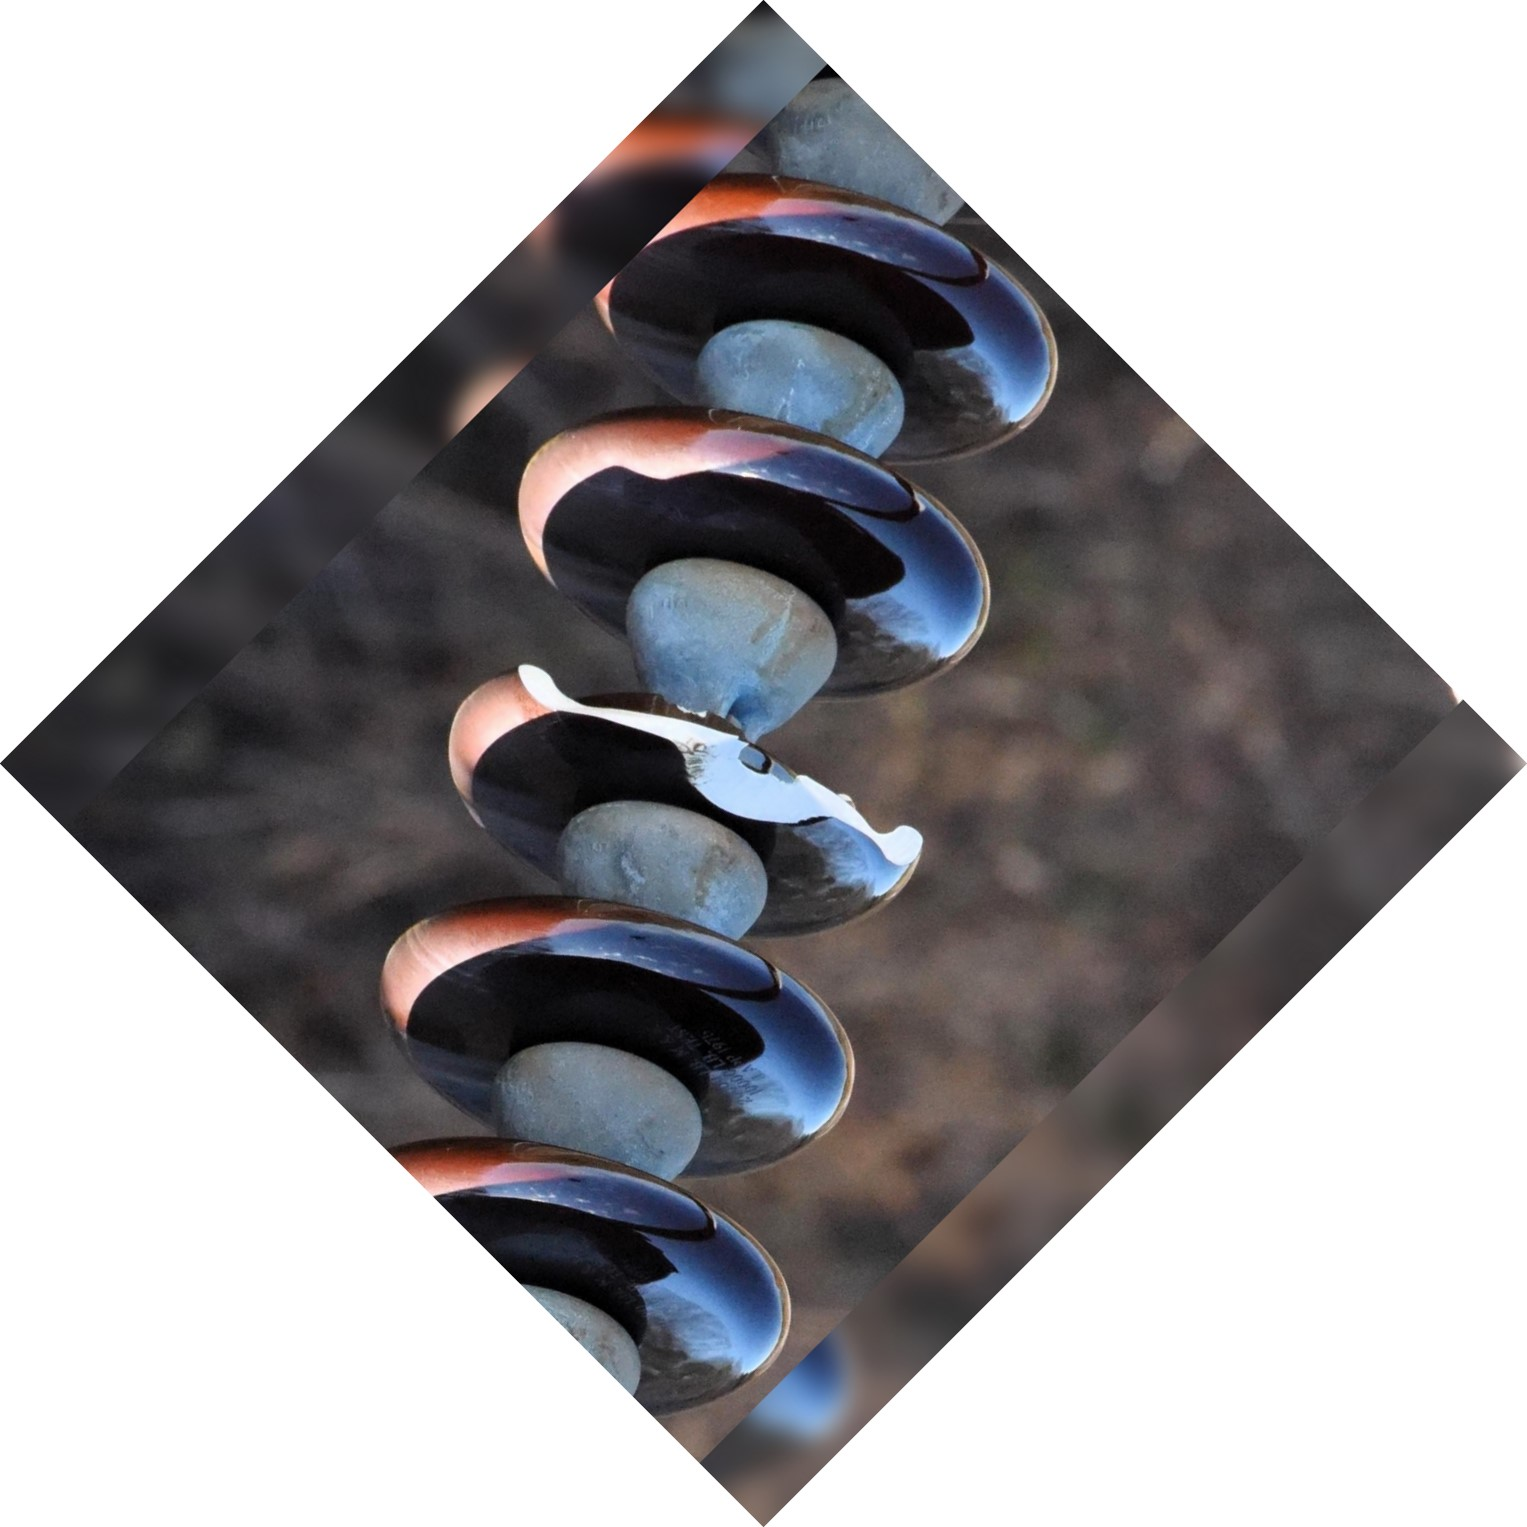insulator breakage: (443, 635, 931, 951)
